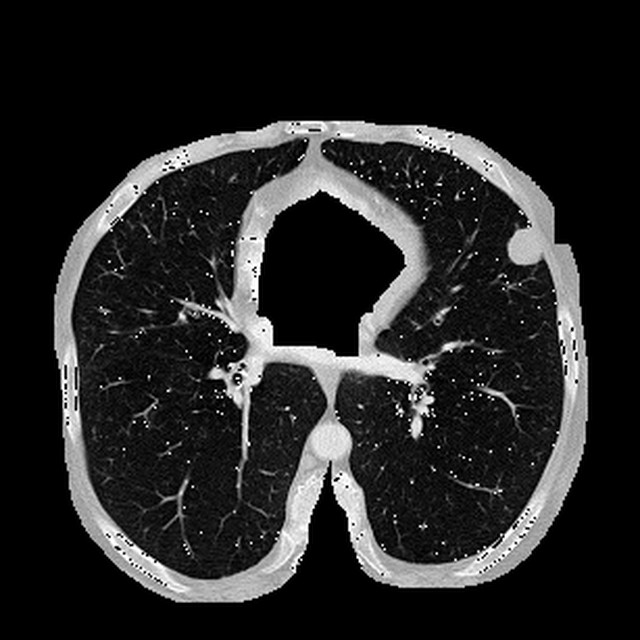PN: (504, 227, 542, 265)
